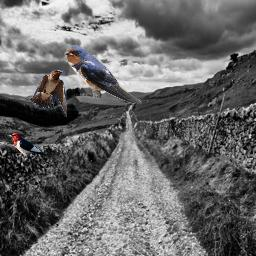Swallow: (64, 45, 142, 104), (30, 70, 67, 117)
Woodpecker: (5, 132, 49, 158)
